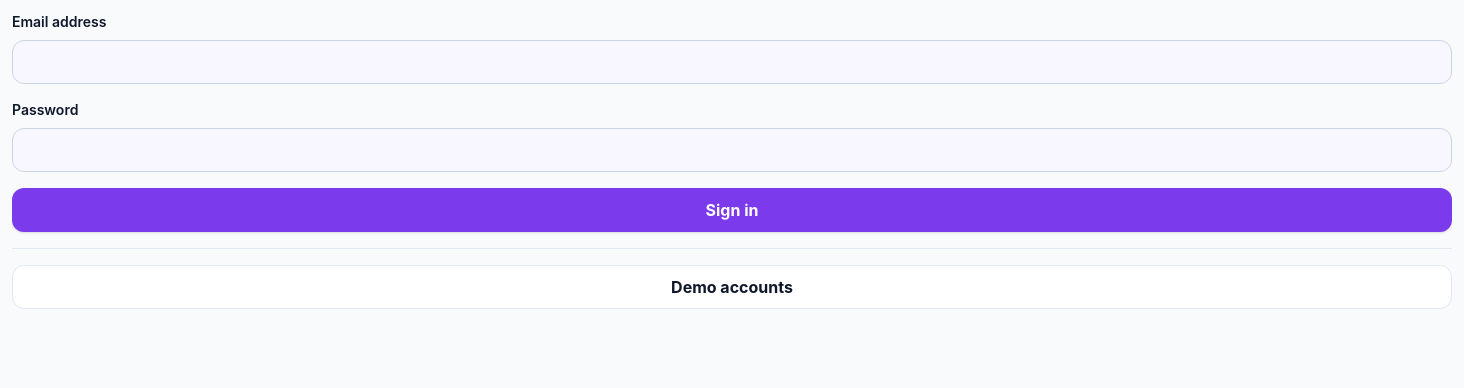
Test: LoginForm › requires email and password before submitting
Click the button "Sign in": (732, 210) x1=12 y1=188 x2=1452 y2=232
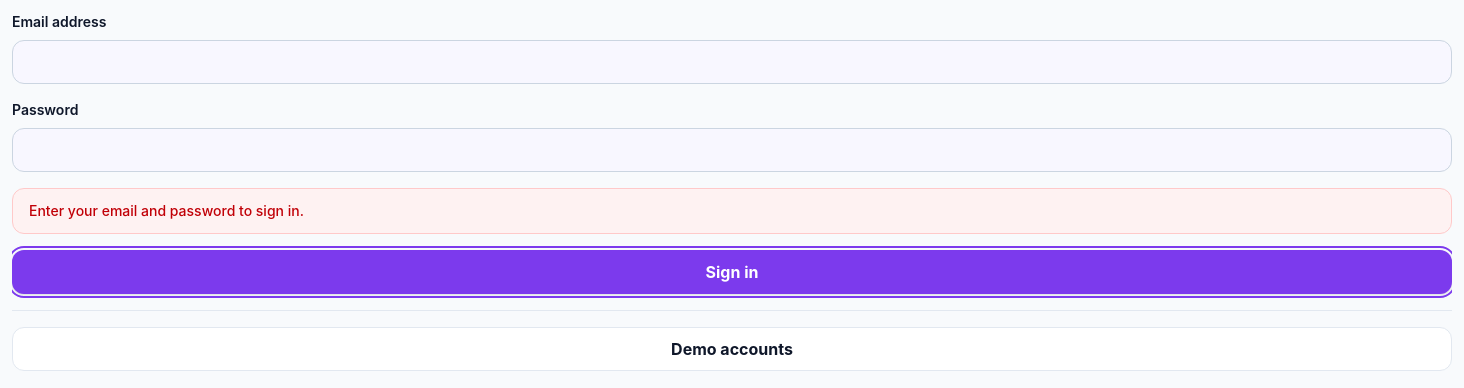
Now the message reads "Enter your email and password to sign in.", box x1=29 y1=202 x2=304 y2=219
